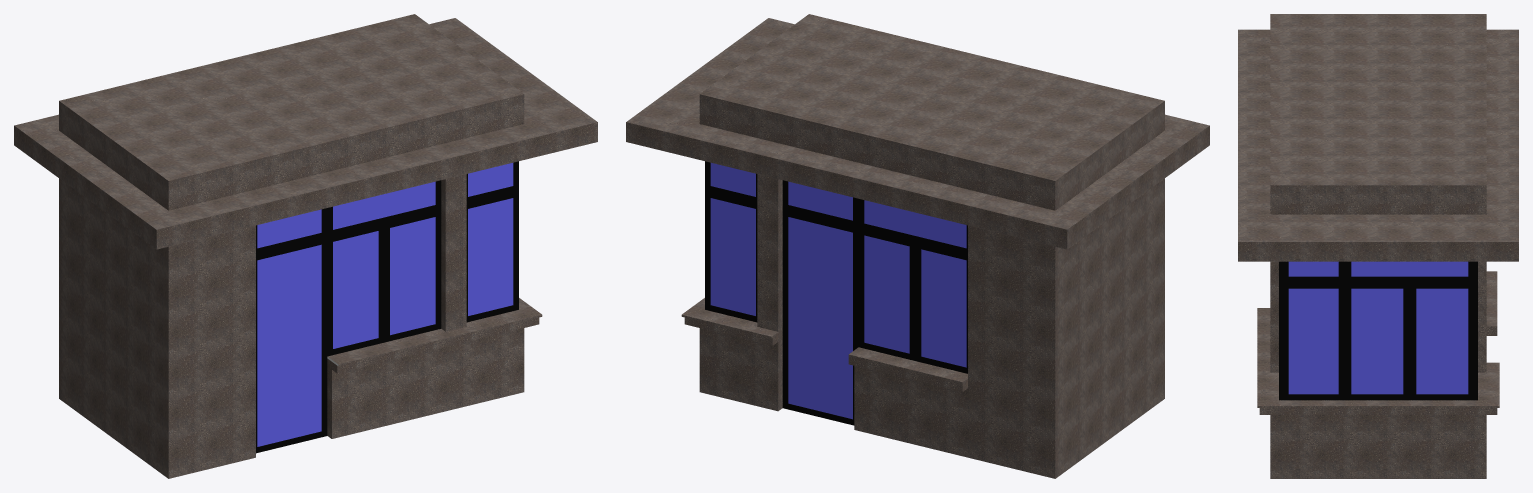
Rendered from Nhaxe.obj.
3 renders of one model, left to right at view 1: azimuth 30°, elevation 25°; view 2: azimuth 150°, elevation 25°; view 3: azimuth 270°, elevation 25°, orthographic.
Visible parts, largest first — view 1: Mesh1 Group2 Group1 Model, Mesh2 Group3 Group1 Model, Mesh4 Group3 Group1 Model; view 2: Mesh1 Group2 Group1 Model, Mesh3 Group3 Group1 Model, Mesh4 Group3 Group1 Model; view 3: Mesh1 Group2 Group1 Model, Mesh4 Group3 Group1 Model.
Part boxes in pixels (bbox=[...]): Mesh1 Group2 Group1 Model: bbox=[14, 14, 597, 478]; Mesh2 Group3 Group1 Model: bbox=[256, 180, 441, 453]; Mesh4 Group3 Group1 Model: bbox=[466, 161, 518, 322]; Mesh1 Group2 Group1 Model: bbox=[626, 14, 1209, 478]; Mesh3 Group3 Group1 Model: bbox=[782, 180, 967, 425]; Mesh4 Group3 Group1 Model: bbox=[705, 161, 757, 322]; Mesh1 Group2 Group1 Model: bbox=[1238, 14, 1518, 478]; Mesh4 Group3 Group1 Model: bbox=[1279, 261, 1477, 400].
Bounding box in the file's own units: 4650 × 3000 × 2600.
4 materials, 2 textured.
